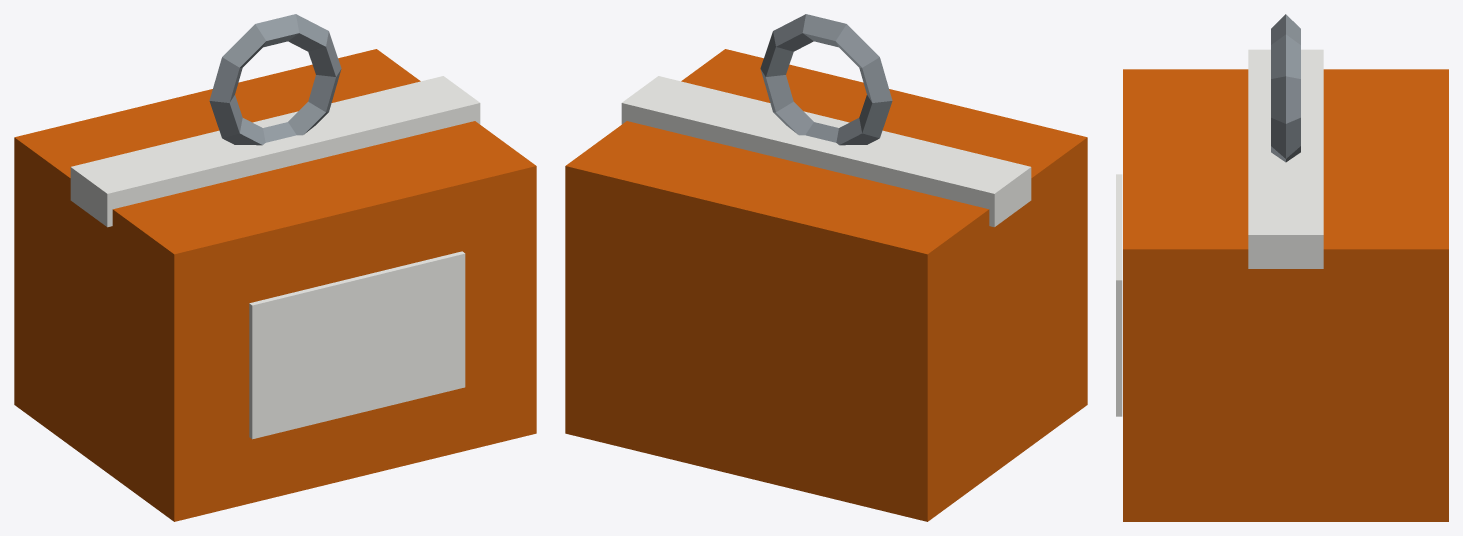
File: supply_food.fbx
3 renders of one model, left to right at view 1: azimuth 30°, elevation 25°; view 2: azimuth 150°, elevation 25°; view 3: azimuth 270°, elevation 25°, orthographic.
Visible parts, largest first — view 1: M__supply_food; view 2: M__supply_food; view 3: M__supply_food.
Boxes of the visible parts, x1,y1,x2,y2 form: M__supply_food: [14, 14, 536, 521]; M__supply_food: [565, 14, 1087, 521]; M__supply_food: [1116, 14, 1448, 521].
Bounding box in the file's own units: 0.35 × 0.359 × 0.2655.
